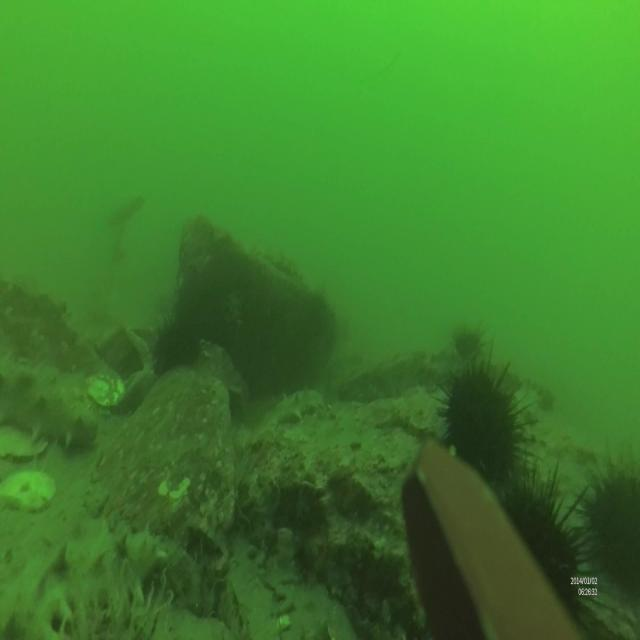echinus: (431, 346, 543, 494), (489, 469, 588, 620), (574, 448, 640, 596), (151, 311, 201, 385)
holothurian: (0, 524, 168, 640), (0, 360, 98, 448), (256, 388, 327, 442)
